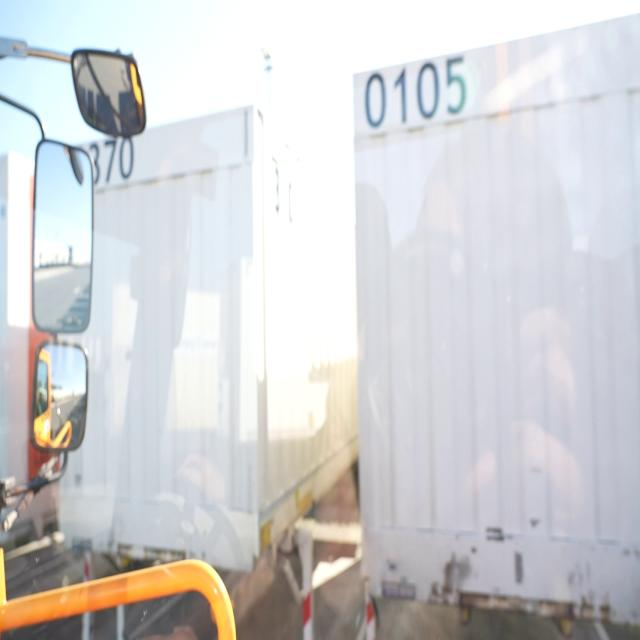Code: (359, 48, 472, 130)
